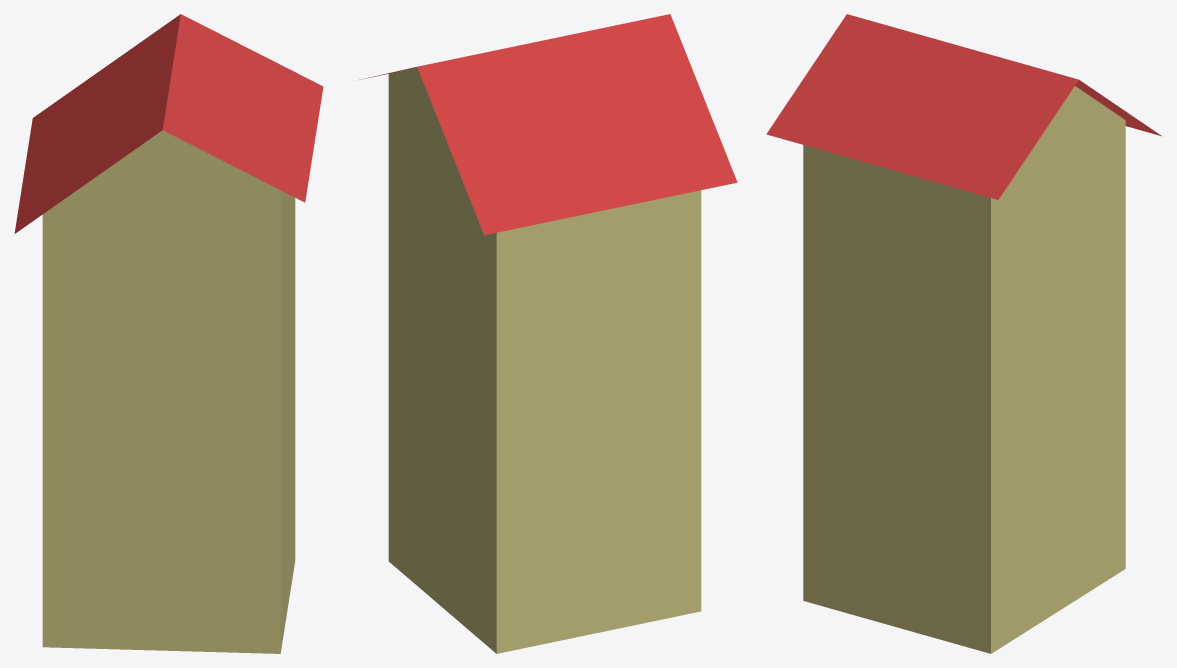
3 views of the same model, side by side, from view 1: azimuth 30°, elevation 25°; view 2: azimuth 150°, elevation 25°; view 3: azimuth 270°, elevation 25° (orthographic). The views are drawn at different scales.
Size of the model in its own units: 3.75 by 3.71 by 5.56.
